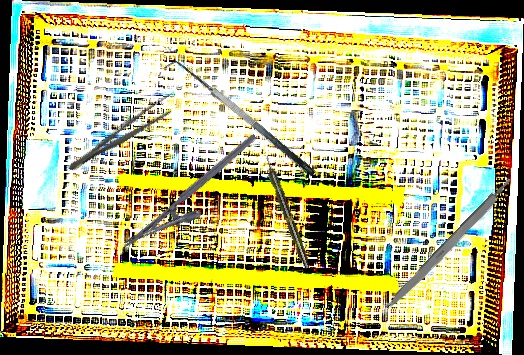Dressing Forceps: (63, 89, 181, 179)
Handpiece: (261, 153, 313, 271)
Needle Holder: (122, 132, 273, 266)
Scalpel Handle: (383, 176, 517, 314)
Spatula Surgical: (163, 51, 317, 189)
